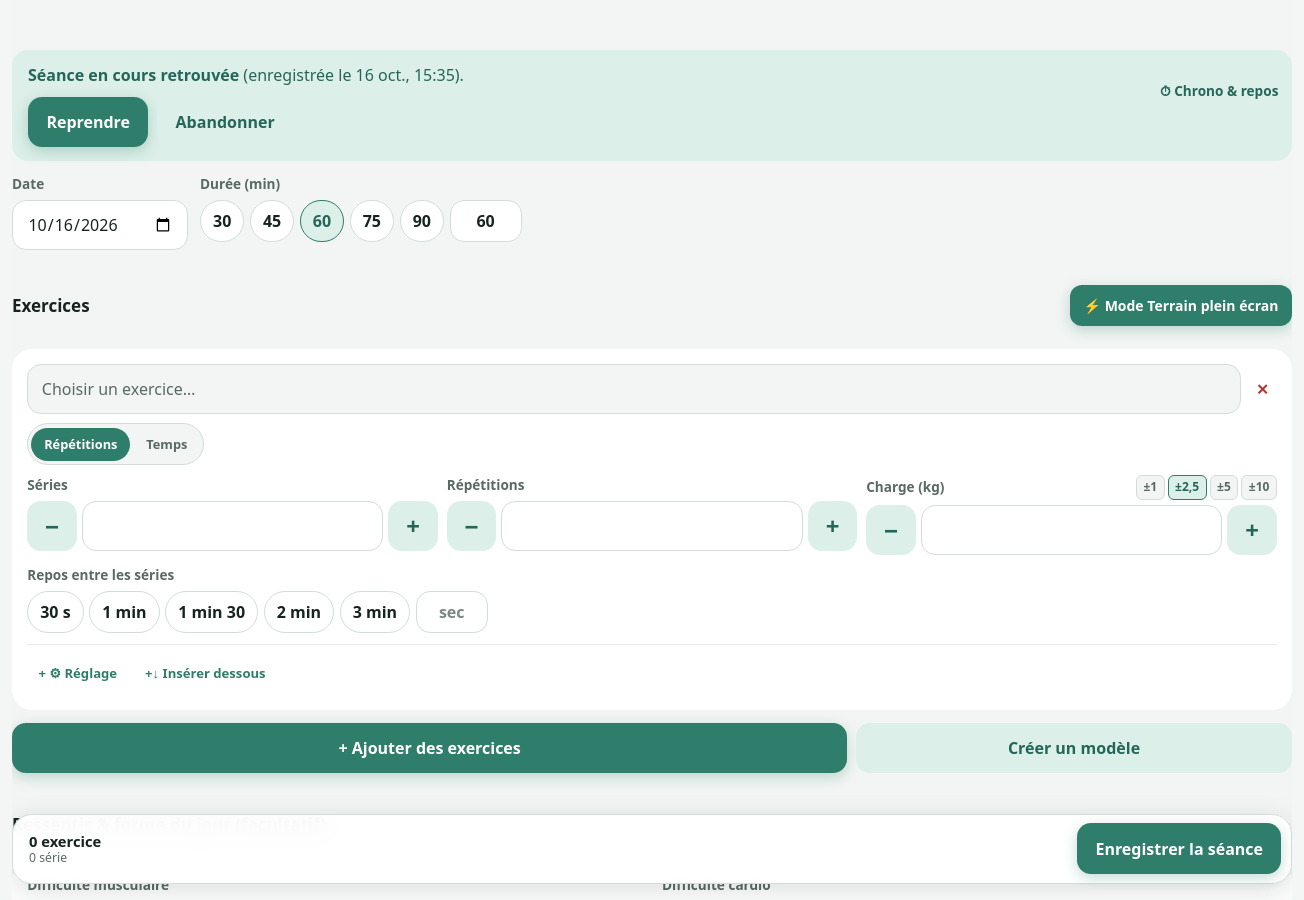
Test: NouvelleSeance - Sauvegarde du brouillon et Mode Terrain ([P1-02]) › permet de reprendre un brouillon existant en vue classique et restaure les valeurs
Expected: the message is shown, [12, 50, 1292, 161]
Click the button "Reprendre" at point(88, 122), box [28, 97, 148, 147]
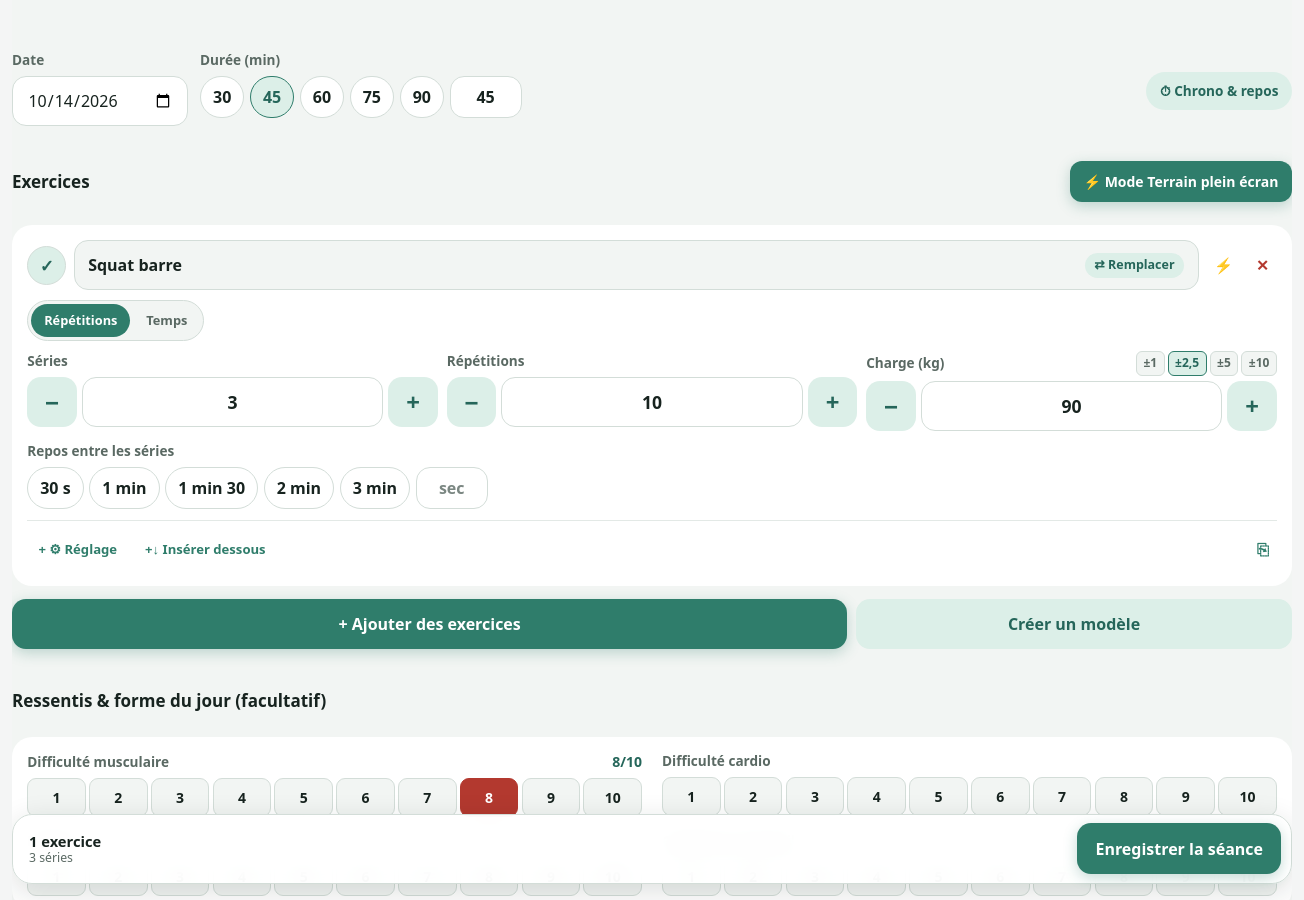
Now the message "Séance en cours retrouvée (enregistrée le 16 oct., 15:35). Reprendre Abandonner" is gone
Now the date field labelled "Date" holds "2026-10-14", box [12, 76, 188, 126]
Now the text "Squat barre" is shown, box [88, 253, 182, 277]
